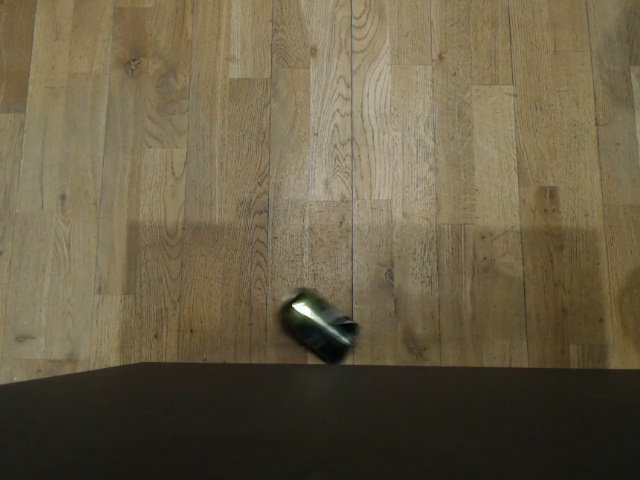beer: (272, 279, 371, 367)
